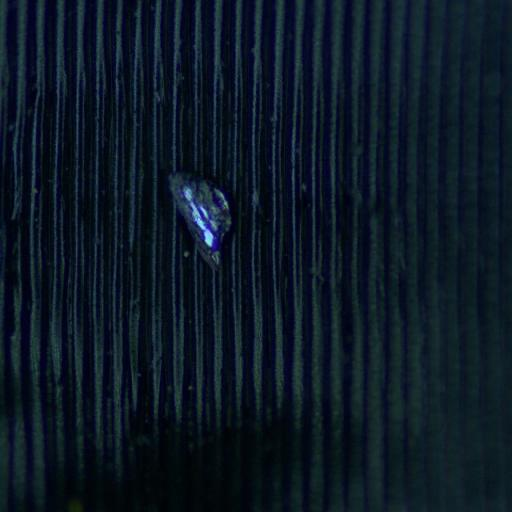mineral: (168, 174, 231, 269)
